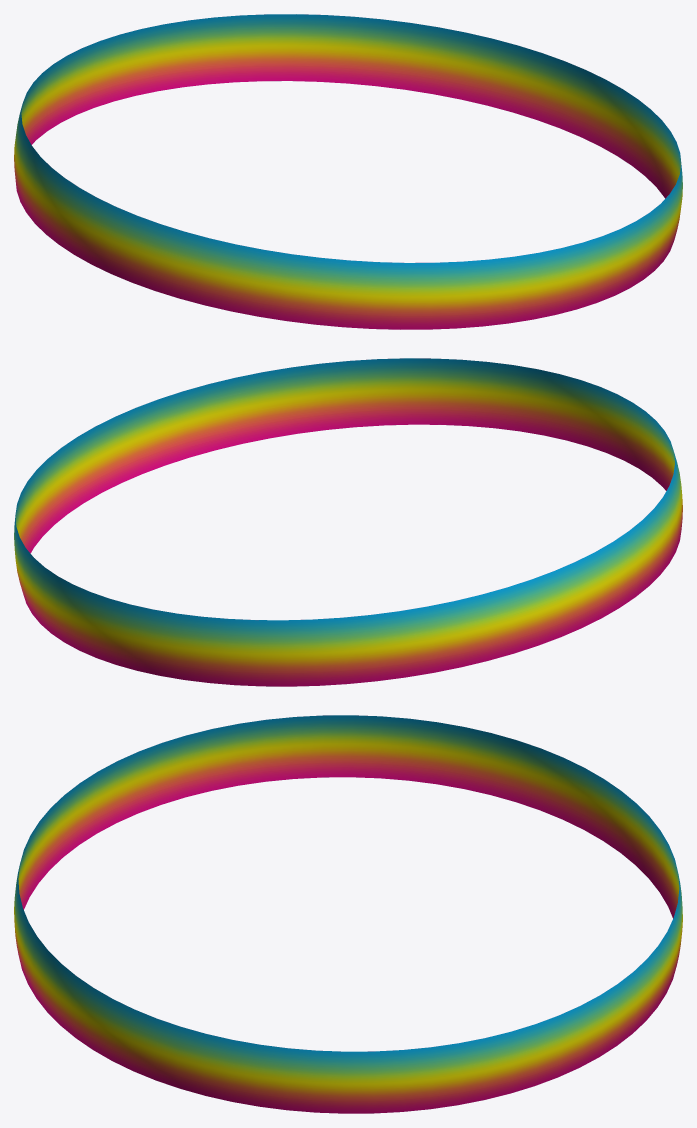
File: RainBow.fbx
3 renders of one model, top to bottom at view 1: azimuth 30°, elevation 25°; view 2: azimuth 150°, elevation 25°; view 3: azimuth 270°, elevation 25°, orthographic.
Visible parts, largest first — view 1: SM_SlamCircle; view 2: SM_SlamCircle; view 3: SM_SlamCircle.
Part boxes in pixels (x1=…): SM_SlamCircle: x1=14, y1=14, x2=682, y2=329; SM_SlamCircle: x1=14, y1=358, x2=682, y2=686; SM_SlamCircle: x1=14, y1=715, x2=682, y2=1113.
Bounding box in the file's own units: 49.05 × 10.05 × 49.17.
